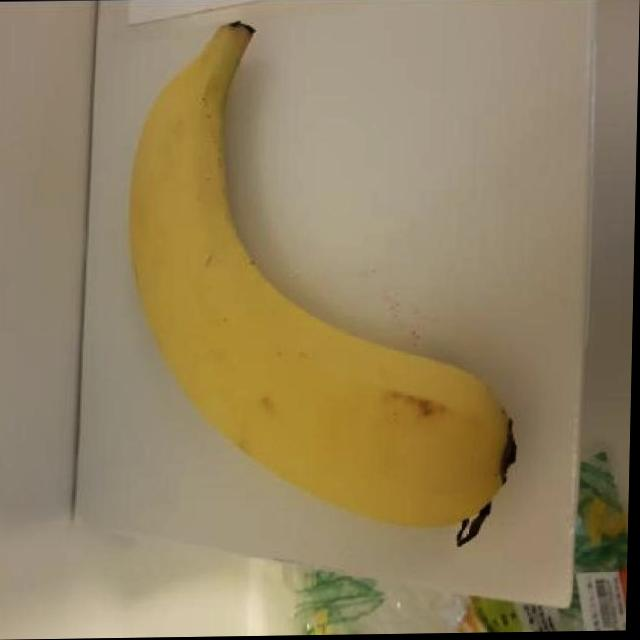banana: (114, 10, 531, 549)
